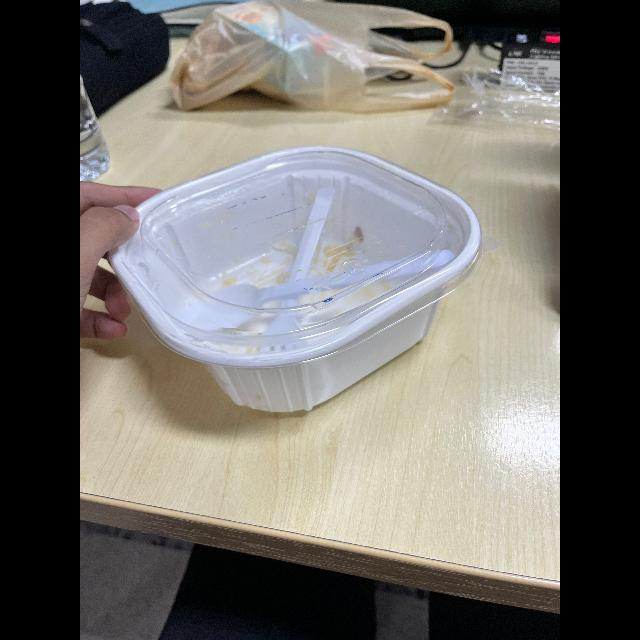plastic_box: (104, 140, 496, 424)
